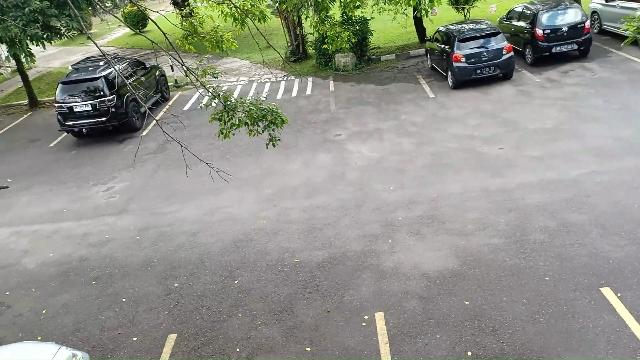empty: (333, 55, 427, 111), (10, 104, 60, 148)
occupied: (55, 69, 167, 141), (515, 0, 601, 76), (422, 35, 516, 91)
